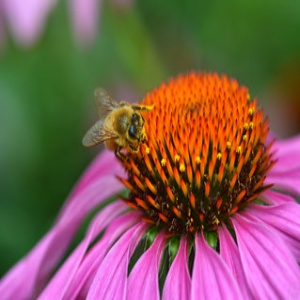bee: (80, 85, 157, 165)
